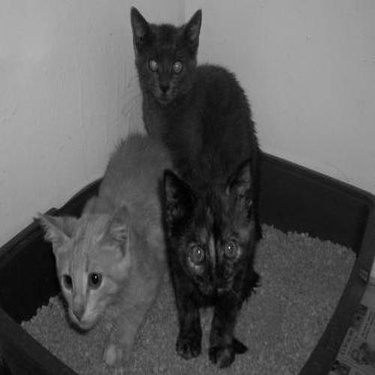cat: (36, 125, 174, 369), (127, 7, 259, 181), (160, 156, 256, 370)
